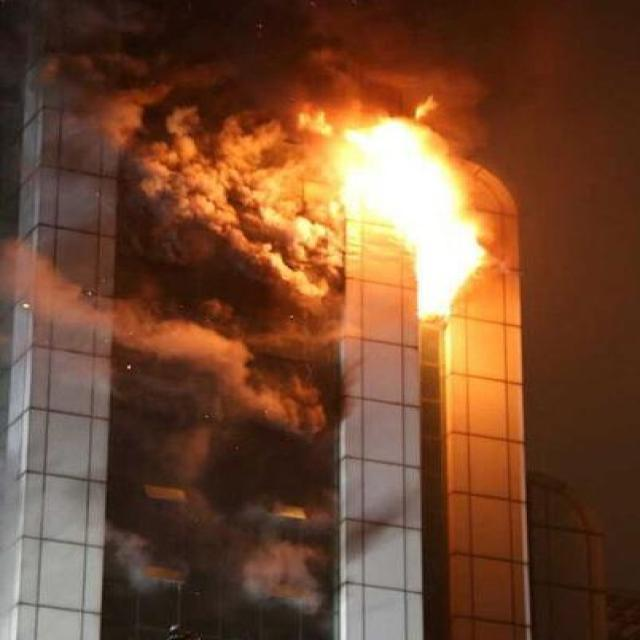Fire: (340, 100, 492, 318)
Smoke: (8, 1, 344, 612)
